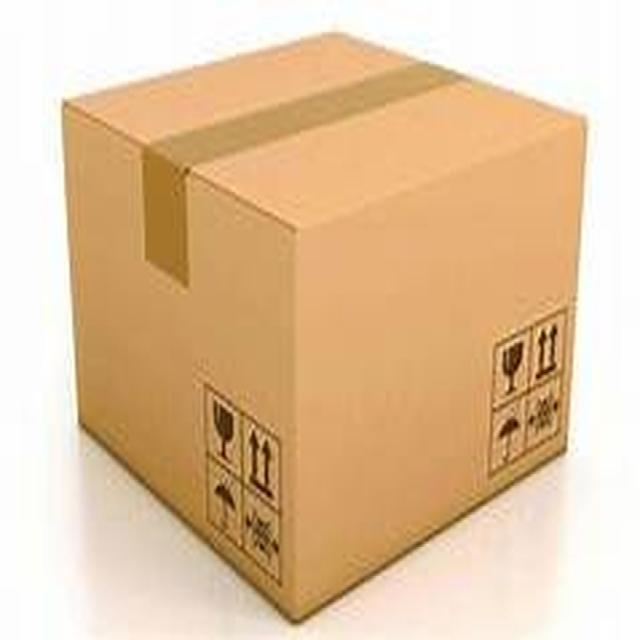box: (21, 31, 603, 610)
